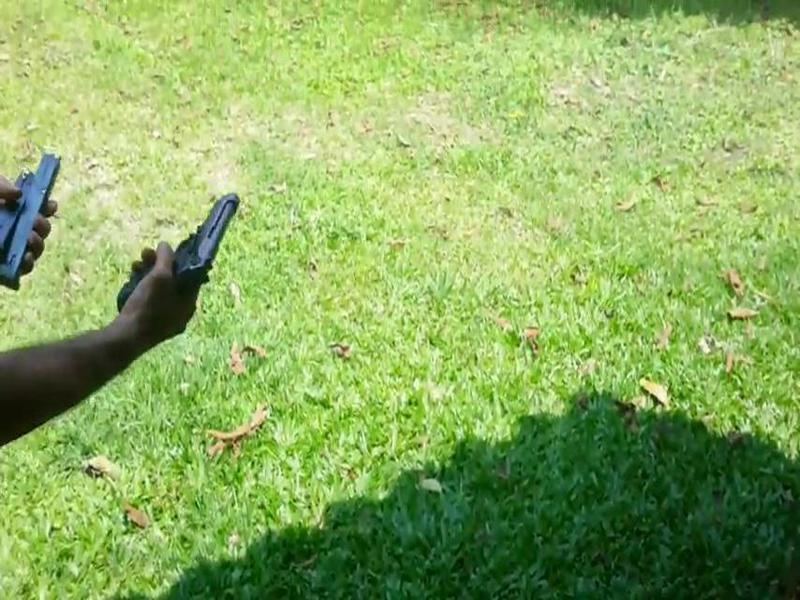Pistola: (127, 191, 247, 301)
